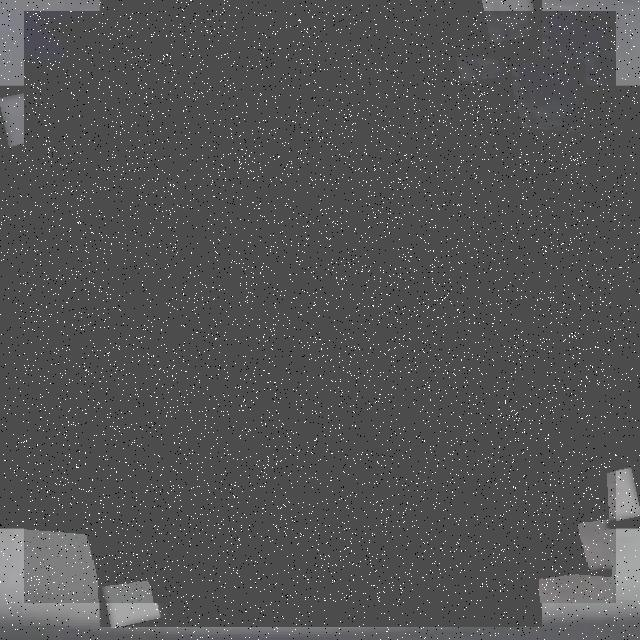dua puluh ribu rupiah: (24, 11, 616, 603)
